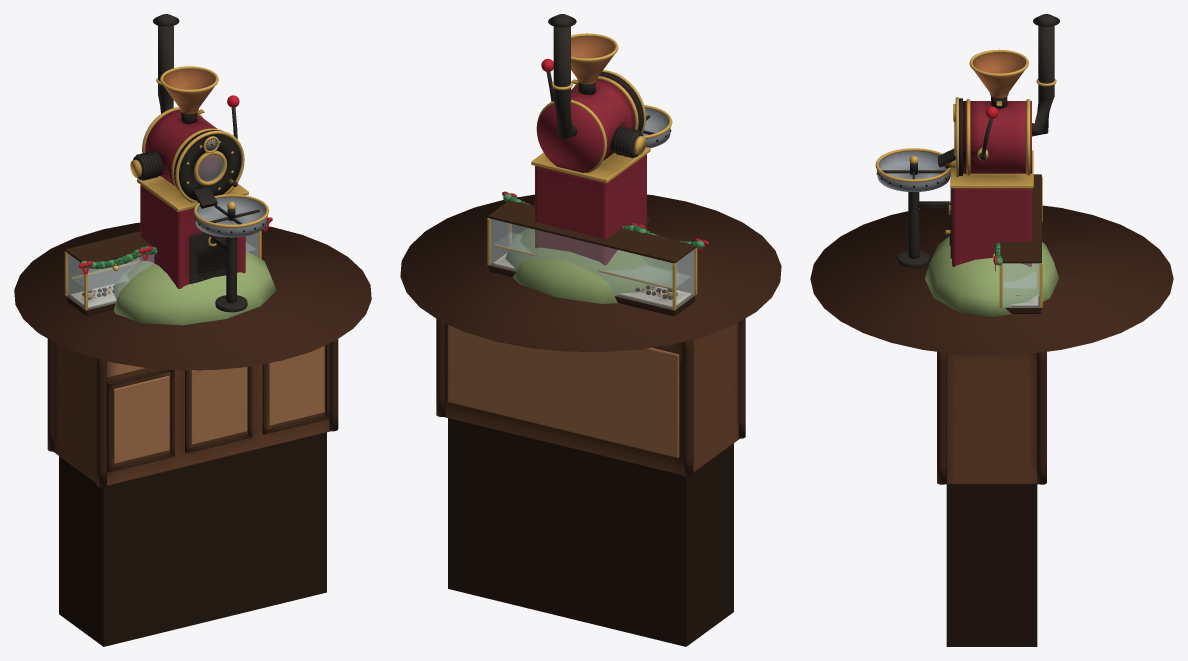
The model's file is roast.glb.
The picture shows the model from 3 angles, left to right: view 1: azimuth 30°, elevation 25°; view 2: azimuth 150°, elevation 25°; view 3: azimuth 270°, elevation 25°; orthographic projection. The views are drawn at different scales.
Parts seen in each view (by area): view 1: CounterPlinth, Counter, CoffeeTop, RoasterBody, Bean, CounterGlass, RoasterChimney, CounterGarland, RoasterGlass; view 2: CounterPlinth, Counter, CoffeeTop, RoasterBody, CounterGlass, Bean, RoasterChimney, CounterGarland; view 3: CoffeeTop, RoasterBody, Counter, CounterPlinth, Bean, RoasterChimney, CounterGlass.
Part boxes in pixels (x1=…): CounterPlinth: x1=59, y1=432, x2=326, y2=646; Counter: x1=47, y1=231, x2=338, y2=487; CoffeeTop: x1=14, y1=222, x2=371, y2=370; RoasterBody: x1=130, y1=66, x2=269, y2=312; Bean: x1=113, y1=251, x2=276, y2=325; CounterGlass: x1=67, y1=232, x2=258, y2=309; RoasterChimney: x1=152, y1=14, x2=179, y2=113; CounterGarland: x1=78, y1=217, x2=272, y2=274; RoasterGlass: x1=198, y1=155, x2=223, y2=181; CounterPlinth: x1=448, y1=418, x2=733, y2=646; Counter: x1=436, y1=200, x2=745, y2=476; CoffeeTop: x1=400, y1=194, x2=781, y2=351; RoasterBody: x1=531, y1=33, x2=672, y2=265; CounterGlass: x1=490, y1=219, x2=694, y2=309; Bean: x1=505, y1=228, x2=679, y2=303; RoasterChimney: x1=548, y1=14, x2=577, y2=139; CounterGarland: x1=502, y1=191, x2=708, y2=252; CoffeeTop: x1=810, y1=205, x2=1173, y2=355; RoasterBody: x1=875, y1=49, x2=1033, y2=267; Counter: x1=937, y1=174, x2=1046, y2=484; CounterPlinth: x1=946, y1=484, x2=1037, y2=646; Bean: x1=925, y1=236, x2=1058, y2=317; RoasterChimney: x1=1032, y1=14, x2=1059, y2=136; CounterGlass: x1=1003, y1=263, x2=1039, y2=307.
Bounding box in the file's own units: 2 × 3.5 × 2.
